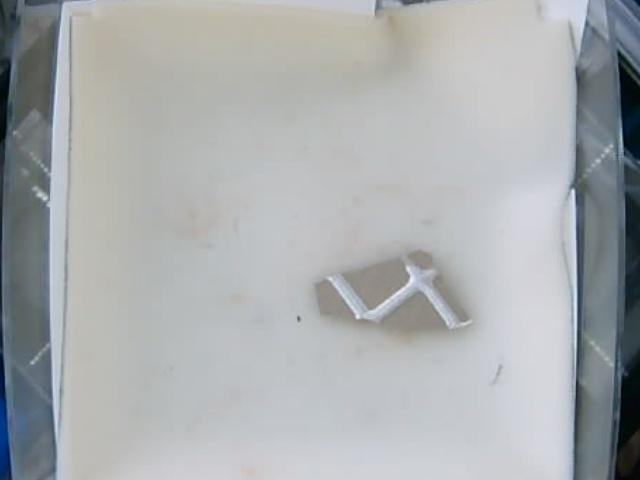China: (314, 249, 472, 336)
